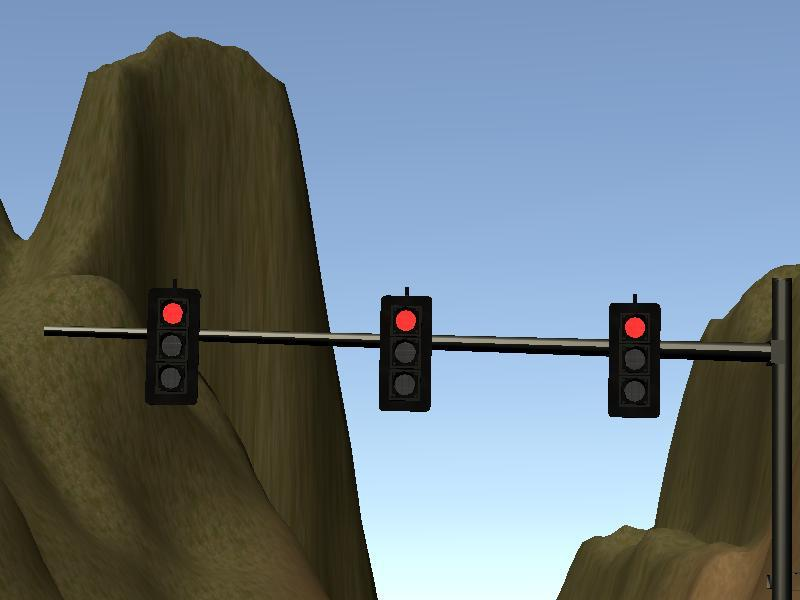Red: (377, 296, 431, 412), (147, 288, 200, 403), (607, 302, 660, 417)
